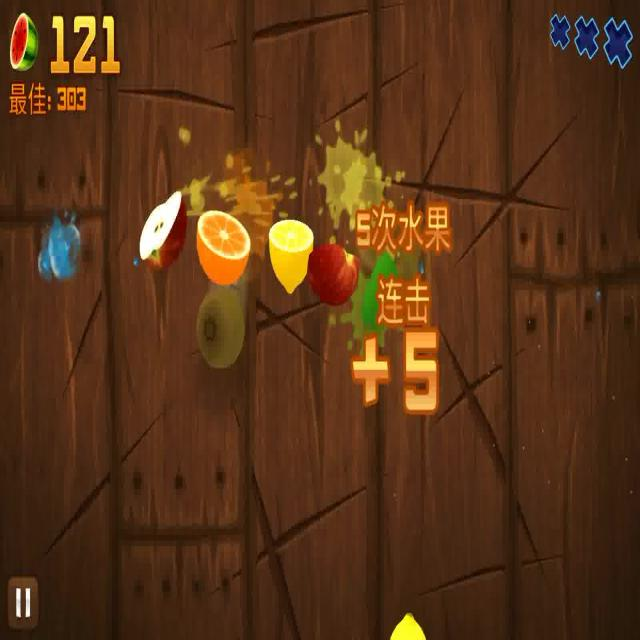fruit: (196, 288, 247, 366), (197, 208, 250, 282), (141, 188, 186, 271), (270, 216, 314, 294), (311, 242, 360, 300), (389, 615, 429, 640)
